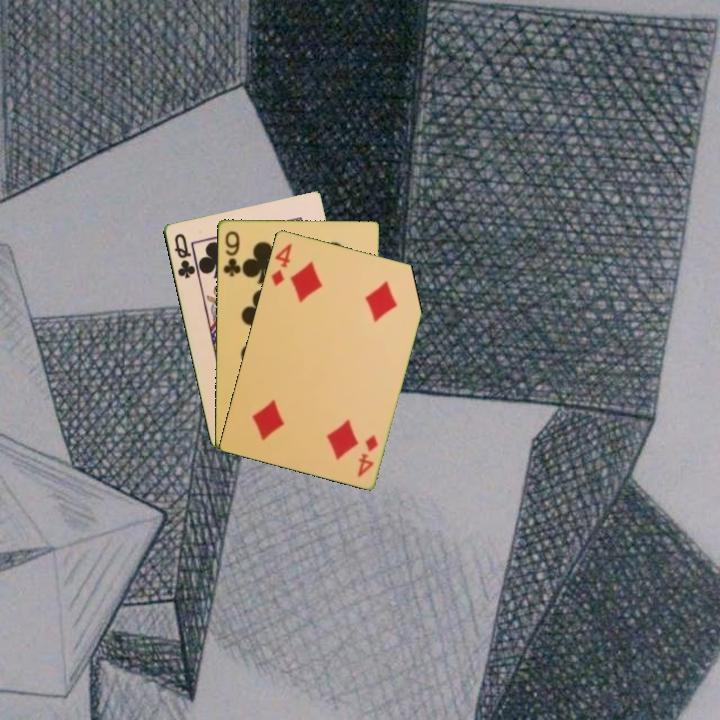4d: (267, 239, 294, 289), (353, 431, 380, 480)
9c: (220, 227, 243, 279)
Qc: (170, 230, 198, 281)
